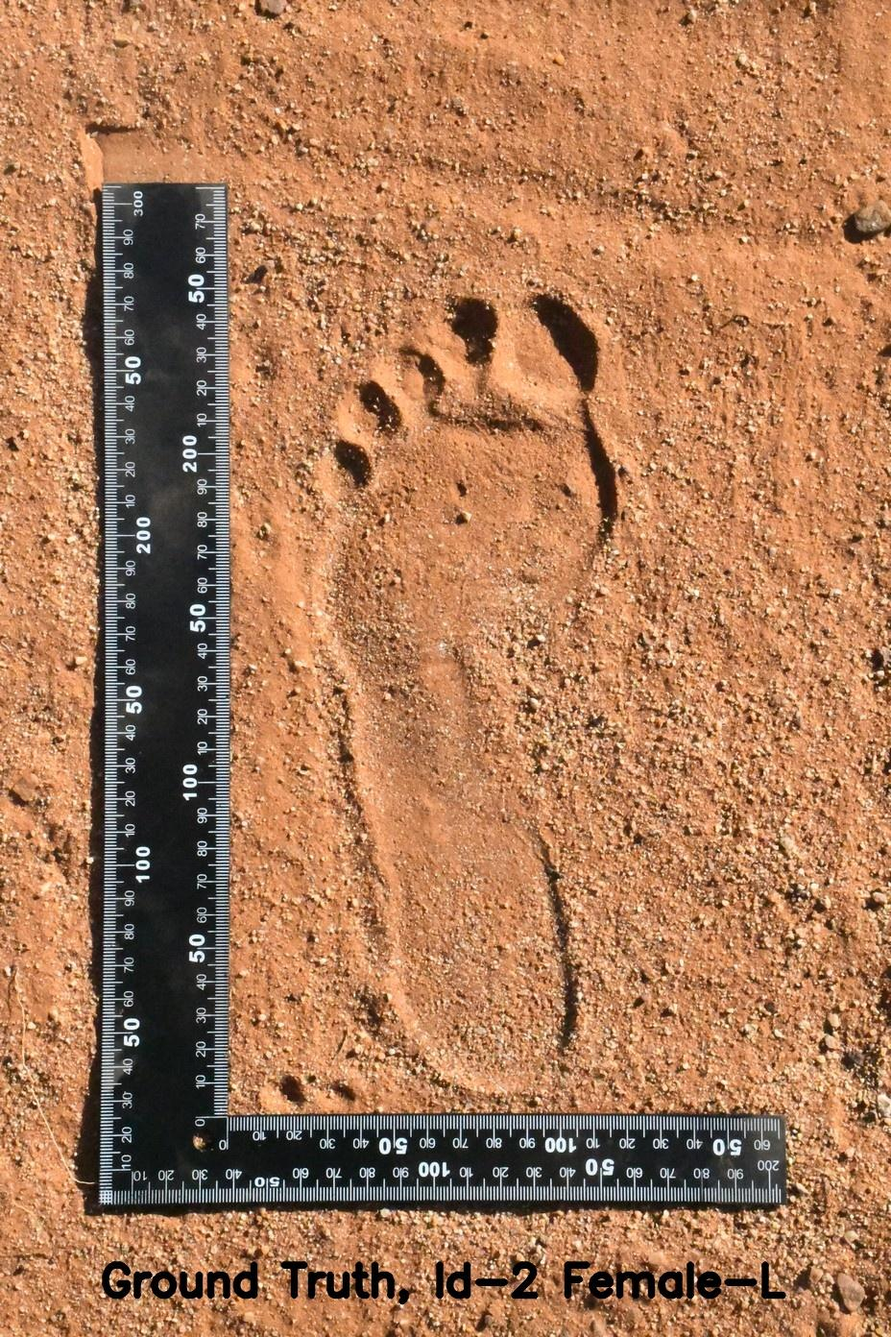human_foot_print: (288, 241, 650, 1111)
